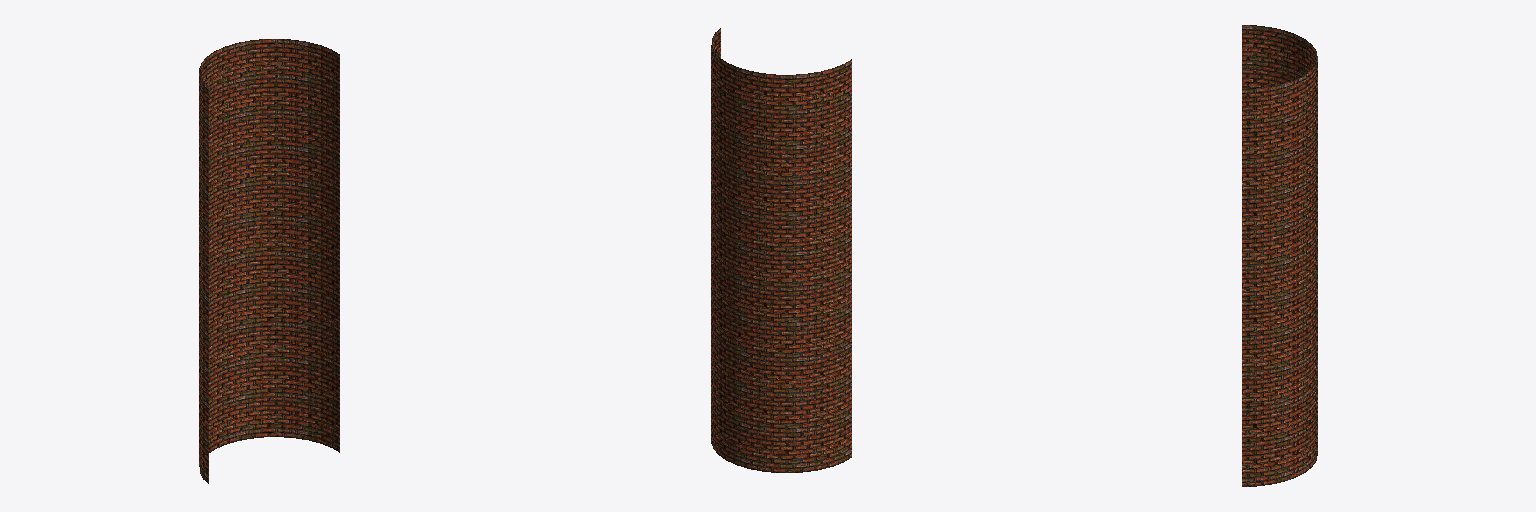
3 views of the same model, side by side, from view 1: azimuth 30°, elevation 25°; view 2: azimuth 150°, elevation 25°; view 3: azimuth 270°, elevation 25° (orthographic).
Visible parts, largest first — view 1: Cylinder; view 2: Cylinder; view 3: Cylinder.
Boxes of the visible parts, box(x1,y1,x2,y2) form: Cylinder: box(199, 39, 339, 483); Cylinder: box(711, 28, 851, 472); Cylinder: box(1242, 25, 1317, 486).
Bounding box in the file's own units: 2 × 5.82 × 1.
1 materials, 1 textured.